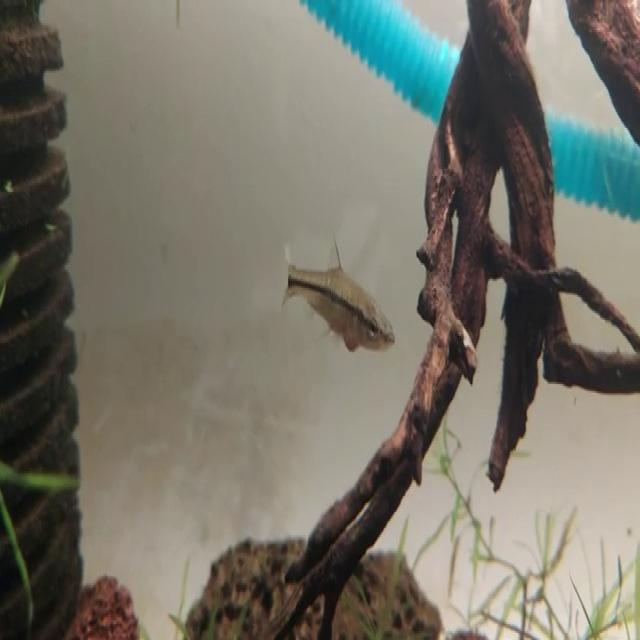Cakil Baligi: (281, 234, 398, 357)
